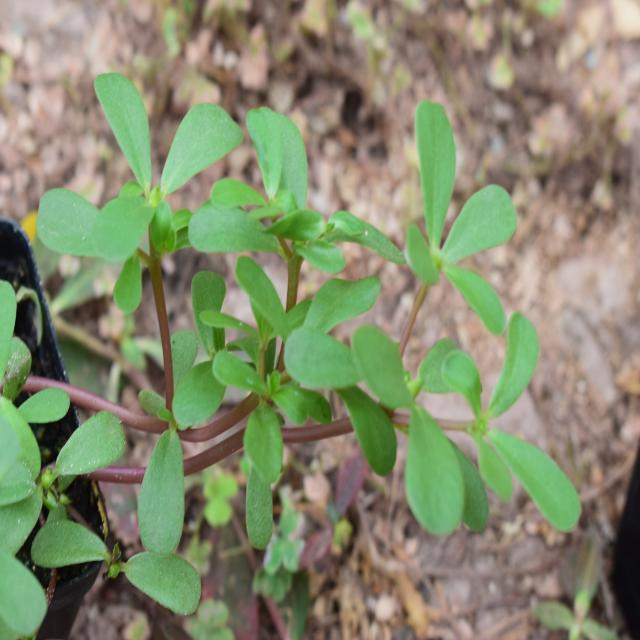purslane: (13, 74, 585, 544)
